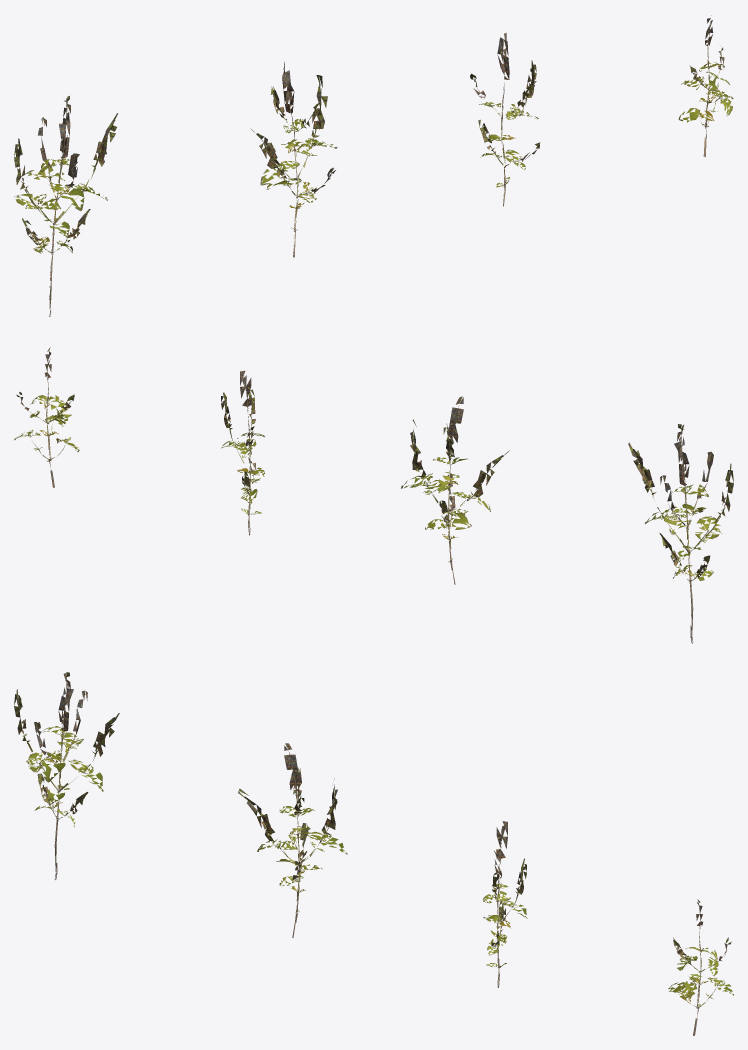
Rendered from shrub_03_mobile.glb.
The picture shows the model from 3 angles, top to bottom: view 1: azimuth 30°, elevation 25°; view 2: azimuth 150°, elevation 25°; view 3: azimuth 330°, elevation 25°; orthographic projection. The views are drawn at different scales.
Visible parts, largest first — view 1: shrub_03_a, shrub_03_b, shrub_03_c, shrub_03_d; view 2: shrub_03_a, shrub_03_b, shrub_03_c, shrub_03_d; view 3: shrub_03_a, shrub_03_b, shrub_03_c, shrub_03_d.
Boxes of the visible parts, x1,y1,x2,y2 form: shrub_03_a: [14, 96, 117, 316]; shrub_03_b: [250, 61, 337, 257]; shrub_03_c: [470, 33, 540, 206]; shrub_03_d: [678, 15, 733, 156]; shrub_03_a: [628, 424, 733, 643]; shrub_03_b: [401, 396, 509, 584]; shrub_03_c: [221, 370, 264, 535]; shrub_03_d: [14, 347, 79, 487]; shrub_03_a: [14, 672, 119, 879]; shrub_03_b: [238, 743, 347, 937]; shrub_03_c: [483, 821, 527, 987]; shrub_03_d: [668, 899, 733, 1035].
Bounding box in the file's own units: 1.37 × 0.3928 × 0.1512.
Materials: 1 (1 with a texture image).
